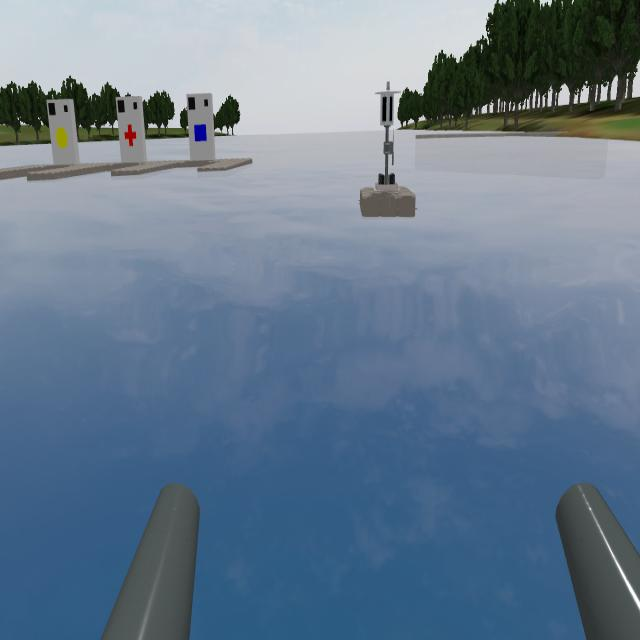black_pole: (376, 80, 401, 162)
